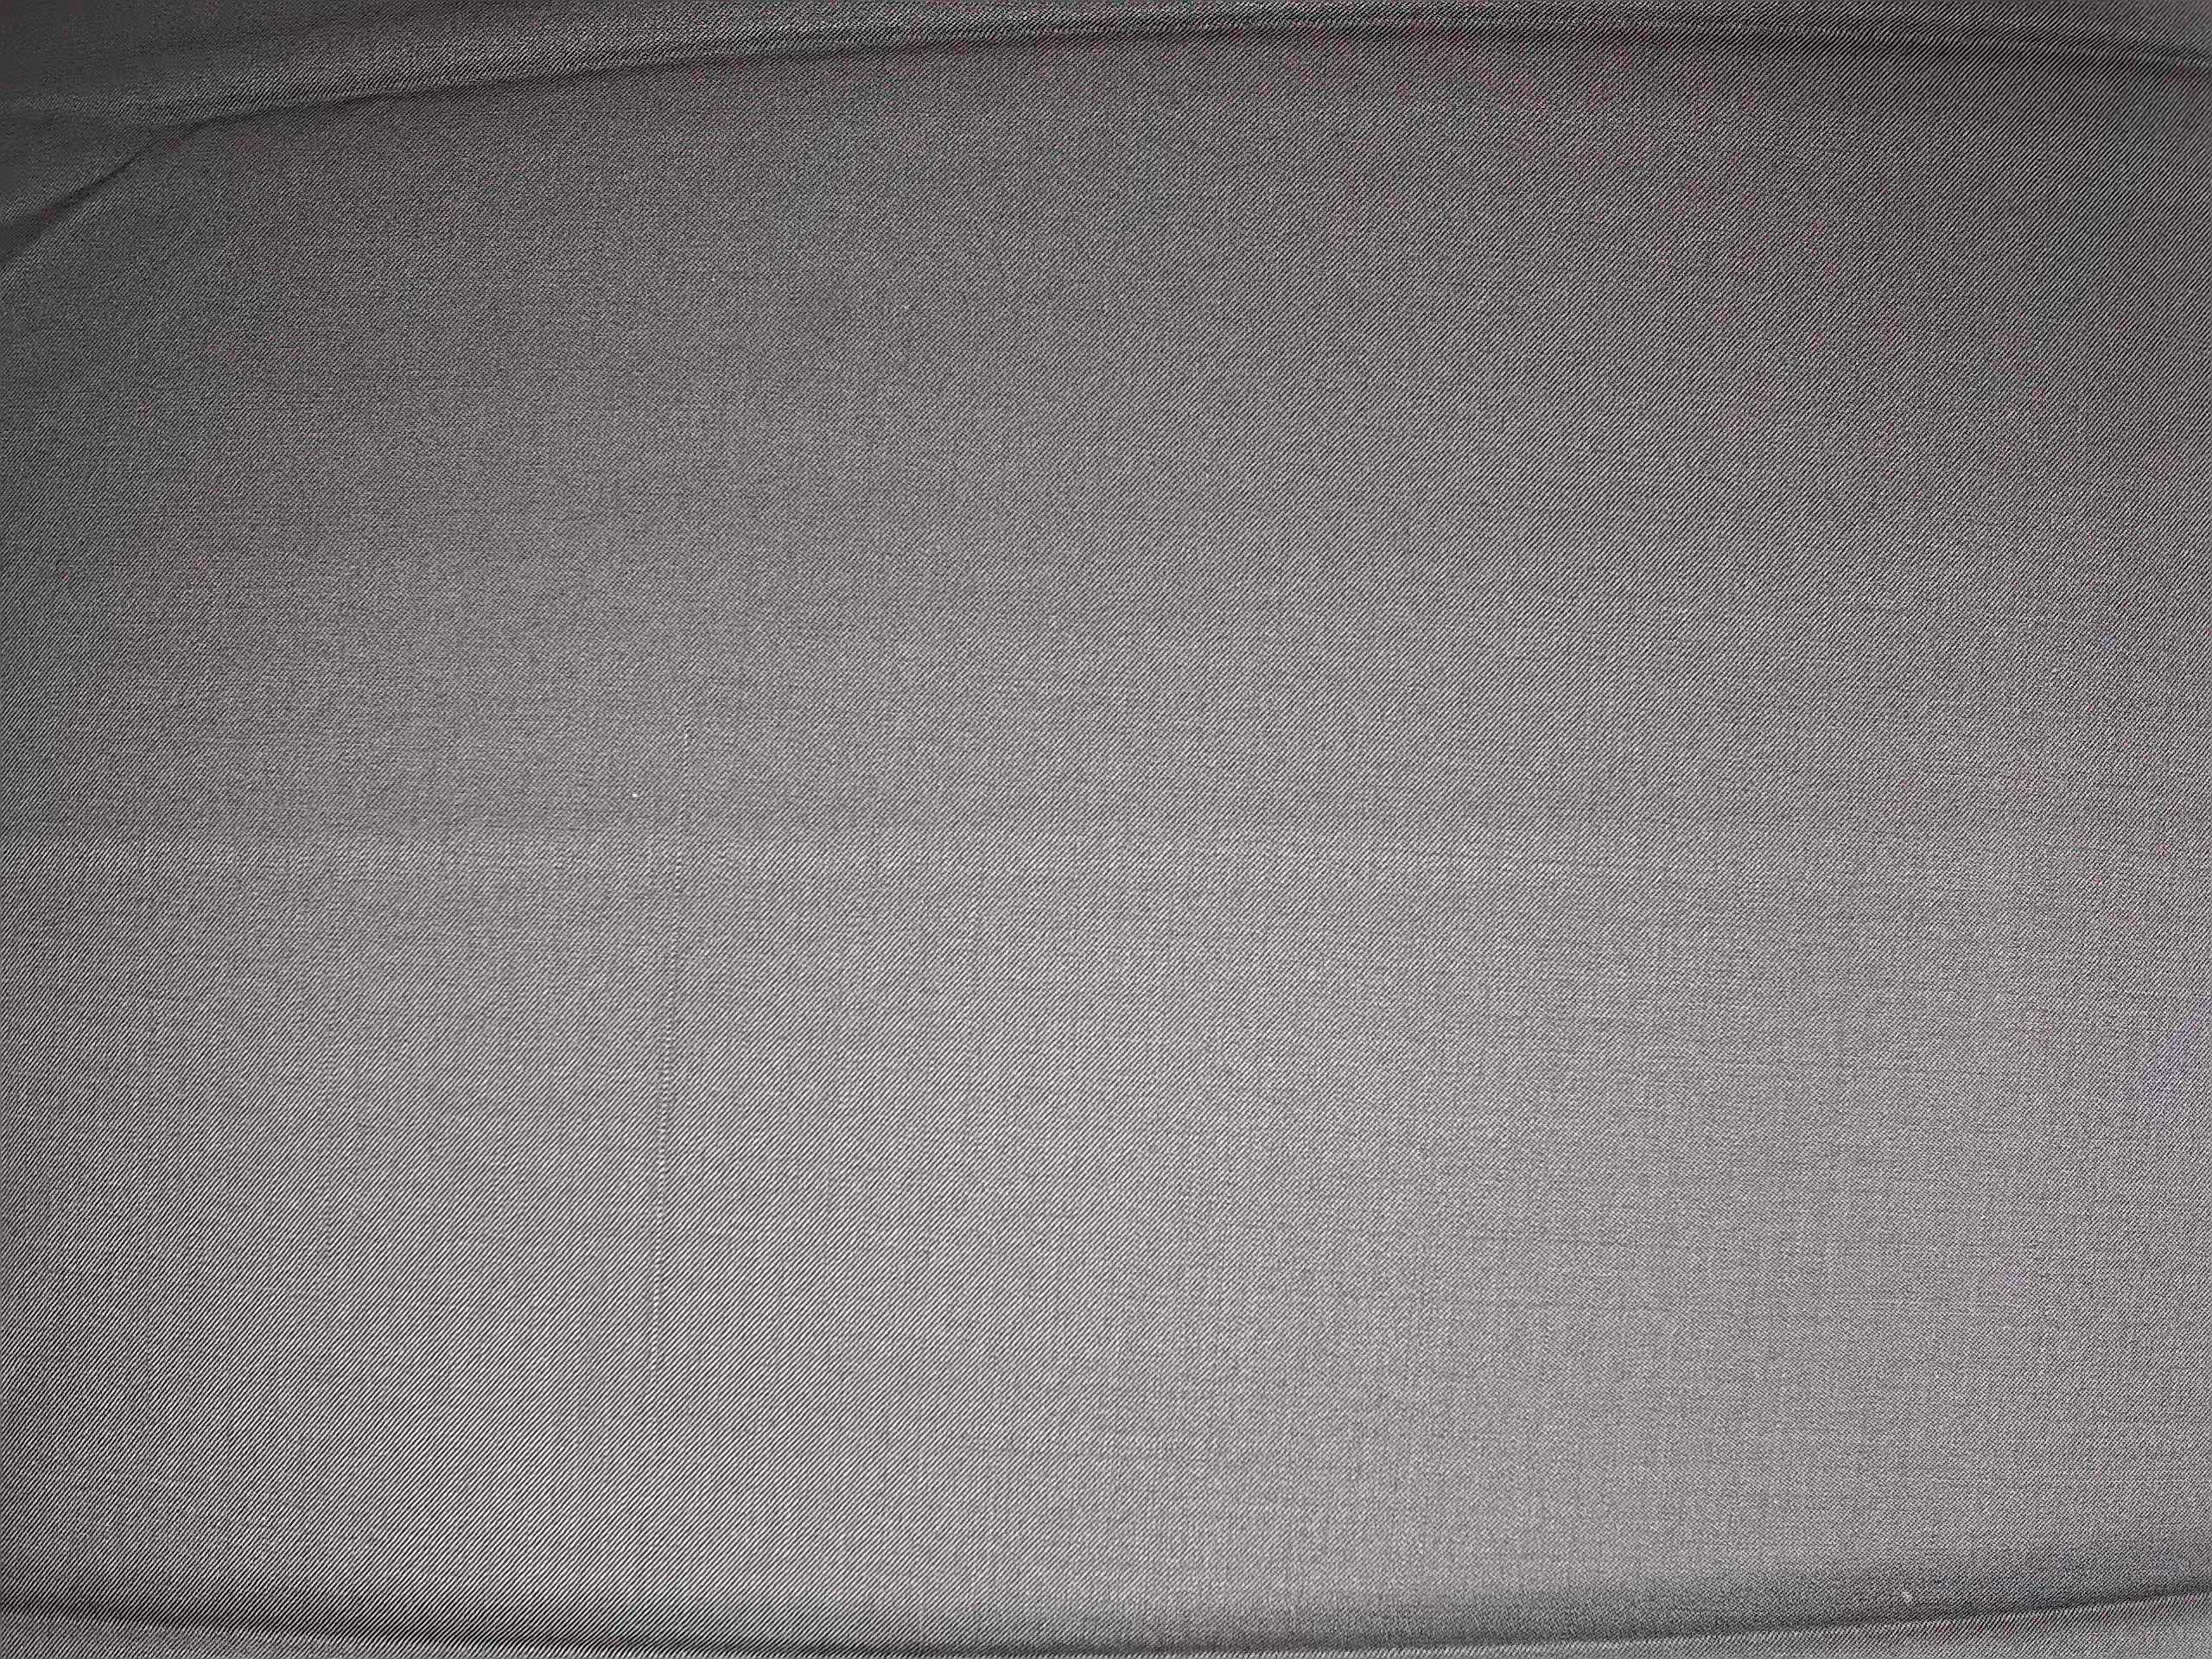hanging-warp: (634, 708, 702, 1432)
